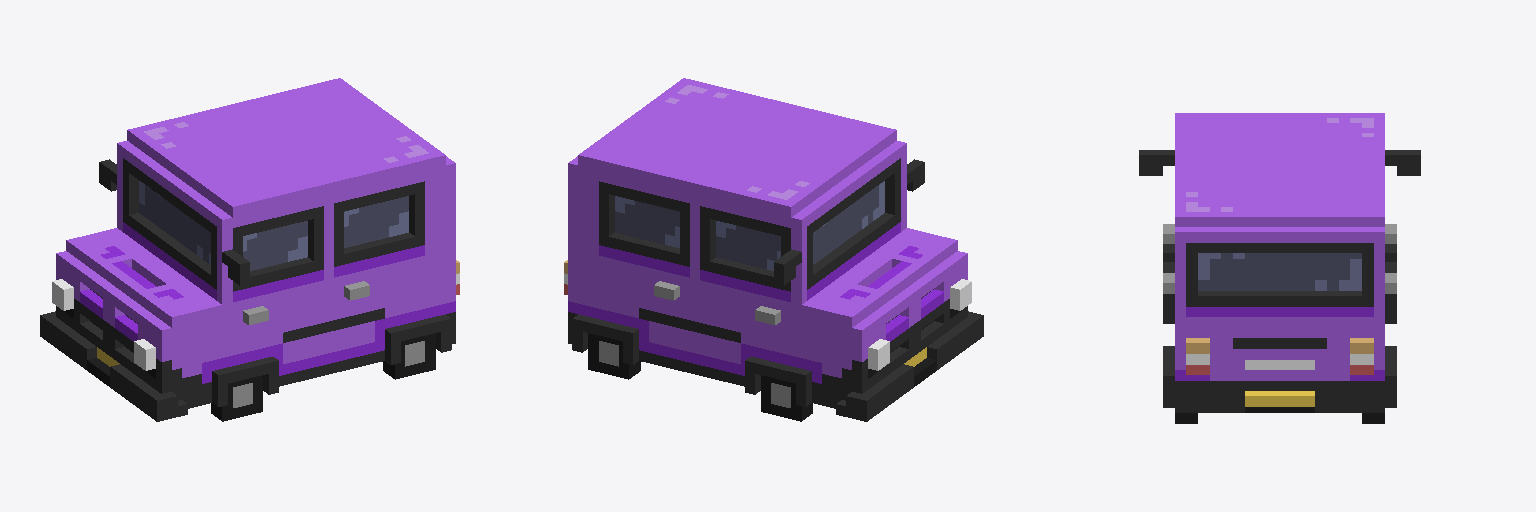
The picture shows the model from 3 angles: view 1: azimuth 30°, elevation 25°; view 2: azimuth 150°, elevation 25°; view 3: azimuth 270°, elevation 25°; orthographic projection.
Parts seen in each view (by area): view 1: Box_94; view 2: Box_94; view 3: Box_94.
Boxes of the visible parts, <box> form: Box_94: <box>40,78,459,421</box>; Box_94: <box>564,78,983,421</box>; Box_94: <box>1139,113,1420,423</box>.
Size of the model in its own units: 31 by 20 by 24.
Materials: 1 (1 with a texture image).